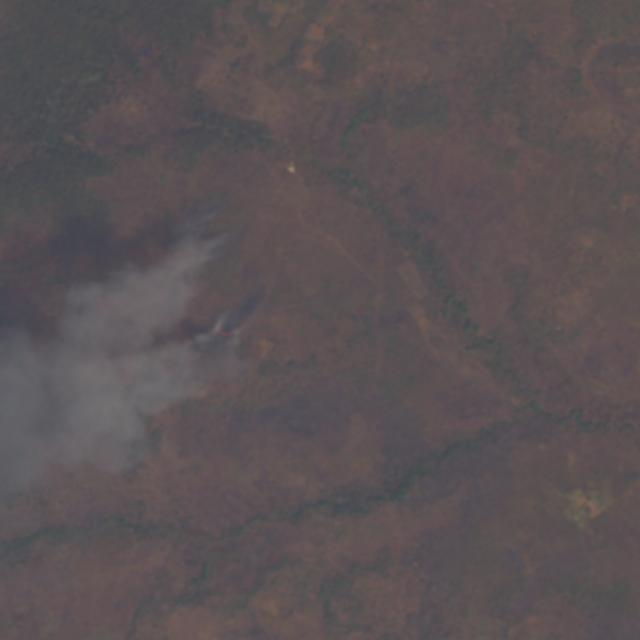wildfire: (83, 235, 281, 411)
